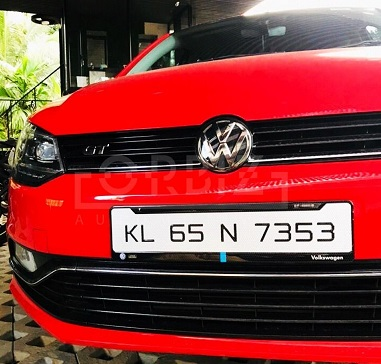number_plate: (111, 206, 355, 259)
